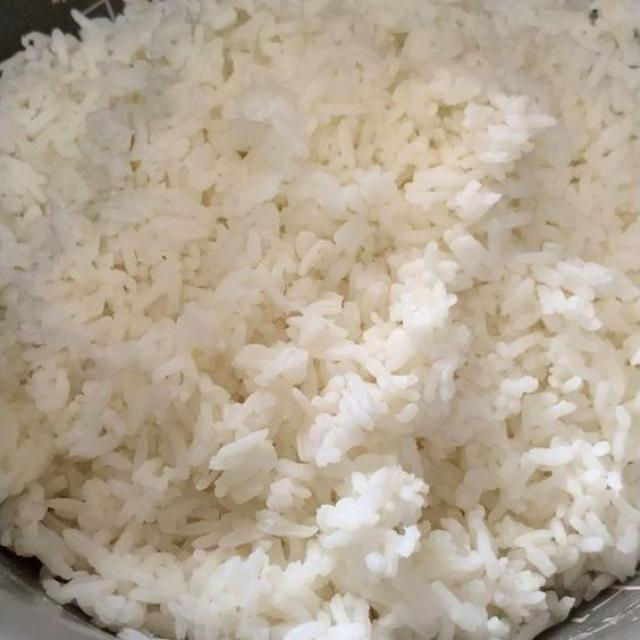nasi_putih: (30, 57, 608, 618)
